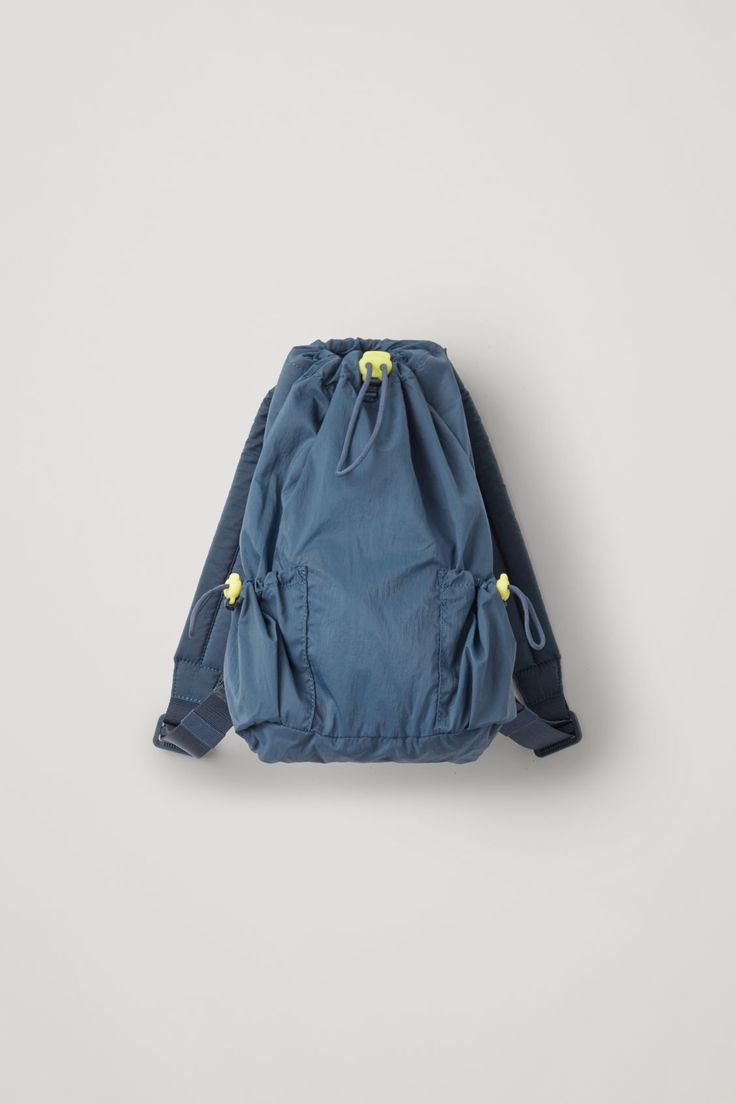nylon: (155, 337, 582, 766)
